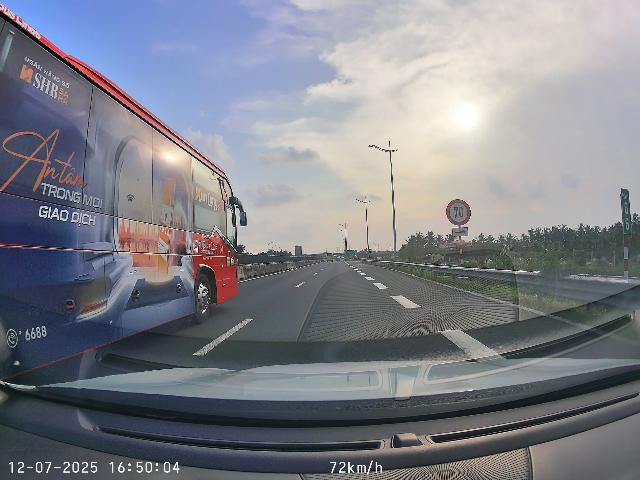127-toc-do-toi-da-70: (446, 199, 472, 226)
